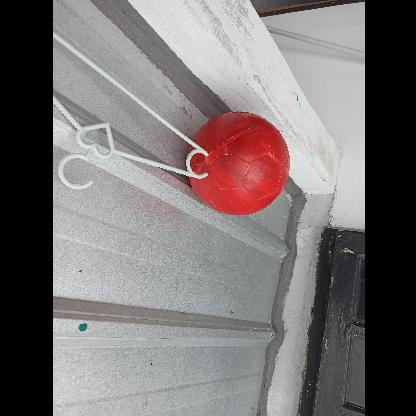red_ball: (186, 113, 289, 216)
